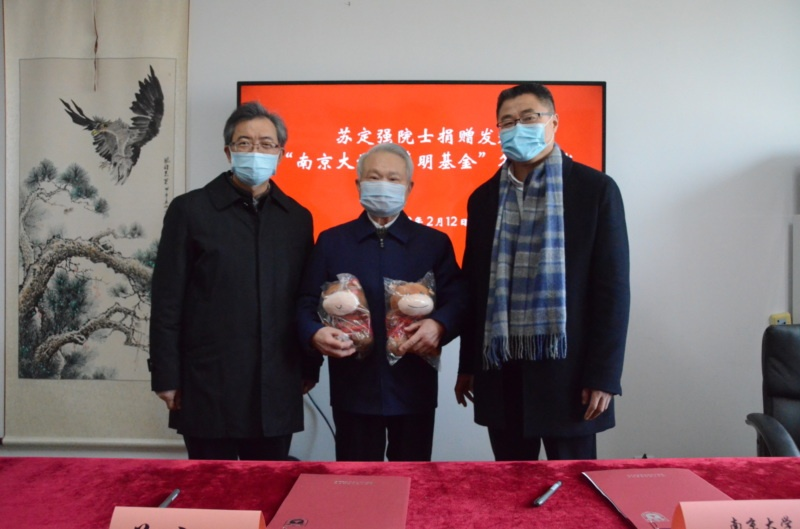correctlyWear: (494, 102, 557, 164), (222, 128, 285, 186), (354, 164, 415, 219)
